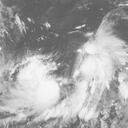cyclone: (23, 31, 111, 121)
